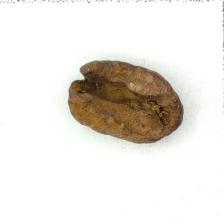NG: (73, 65, 151, 121)
